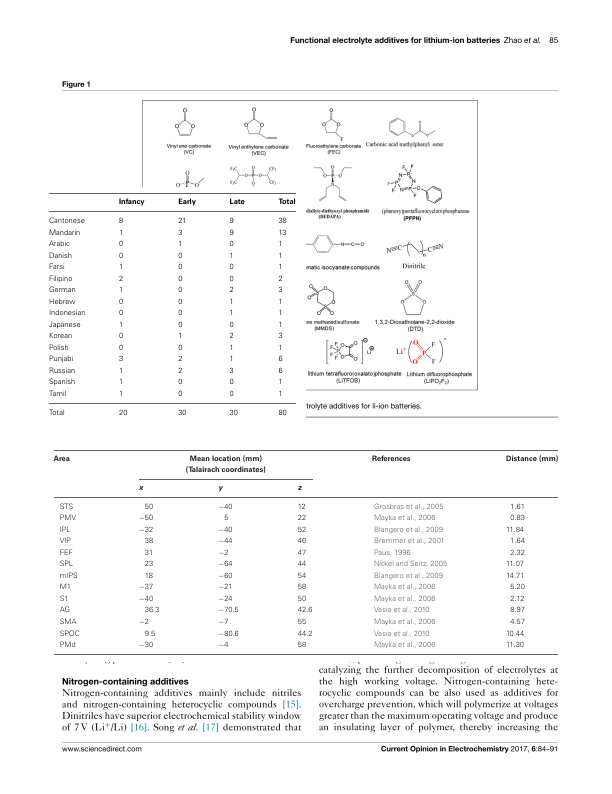borderless: (53, 449, 558, 654), (47, 192, 297, 418)
cell: (185, 455, 267, 475), (373, 560, 448, 569), (373, 538, 445, 547), (373, 503, 444, 512), (373, 526, 444, 535), (373, 572, 444, 581), (373, 595, 436, 604), (373, 618, 436, 627), (373, 641, 436, 650), (373, 607, 430, 616), (373, 630, 430, 639), (373, 515, 436, 523), (373, 584, 436, 592), (505, 455, 559, 463), (373, 549, 412, 558), (48, 309, 86, 318), (48, 217, 85, 226), (371, 455, 412, 463), (48, 229, 81, 238), (48, 321, 81, 330), (117, 198, 145, 207), (48, 286, 76, 295), (48, 298, 76, 307), (48, 367, 76, 376), (48, 378, 76, 387), (48, 355, 74, 364), (48, 275, 73, 284), (48, 332, 73, 341), (48, 252, 72, 261), (217, 607, 240, 616), (217, 630, 240, 639), (48, 240, 70, 249), (59, 630, 81, 639), (48, 344, 69, 353), (505, 526, 525, 535), (505, 560, 525, 569), (59, 572, 79, 581), (505, 572, 525, 581), (505, 630, 525, 639), (505, 641, 525, 650), (177, 198, 196, 207), (277, 198, 296, 207), (48, 390, 67, 399), (59, 618, 77, 627), (59, 641, 77, 650), (228, 198, 245, 207), (48, 263, 65, 272), (48, 409, 65, 418), (217, 503, 234, 512), (509, 503, 526, 512), (217, 526, 234, 535), (217, 538, 234, 547), (509, 538, 526, 547), (509, 549, 526, 558), (217, 560, 234, 569), (217, 572, 234, 581), (217, 584, 234, 593), (217, 595, 234, 604), (509, 607, 526, 616), (509, 618, 526, 627), (52, 455, 71, 463), (59, 515, 77, 523), (138, 526, 154, 535), (138, 584, 154, 593), (138, 595, 154, 604), (509, 595, 525, 604), (144, 607, 160, 616), (297, 607, 313, 616), (297, 630, 313, 639), (138, 641, 154, 650), (509, 515, 526, 523), (509, 584, 526, 592), (59, 503, 74, 512), (59, 549, 74, 558), (59, 560, 74, 569), (138, 515, 154, 523), (59, 526, 72, 535), (59, 538, 72, 547), (59, 584, 72, 593), (217, 549, 229, 558), (59, 607, 71, 616), (138, 618, 150, 627), (217, 618, 229, 627), (144, 630, 156, 639), (217, 641, 229, 650), (117, 409, 128, 418), (177, 217, 187, 226), (277, 217, 287, 226), (277, 229, 287, 238), (177, 409, 187, 418), (228, 409, 238, 418), (277, 409, 287, 418), (144, 503, 154, 512), (297, 503, 307, 512), (297, 526, 307, 535), (144, 538, 154, 547), (297, 538, 307, 547), (144, 549, 154, 558), (297, 549, 307, 558), (144, 560, 154, 569), (297, 560, 307, 569), (144, 572, 154, 581), (297, 572, 307, 581), (297, 584, 307, 593), (59, 595, 69, 604), (297, 595, 307, 604), (297, 618, 307, 627), (297, 641, 307, 650), (297, 515, 307, 523), (117, 217, 124, 226), (117, 229, 124, 238), (117, 240, 124, 249), (117, 252, 124, 261), (117, 263, 124, 272), (117, 275, 124, 284), (117, 286, 124, 295), (117, 298, 124, 307), (117, 309, 124, 318), (117, 321, 124, 330), (117, 332, 124, 341), (117, 344, 124, 353), (117, 355, 124, 364), (117, 367, 124, 376), (117, 378, 124, 387), (117, 390, 124, 399), (228, 217, 234, 226), (177, 229, 183, 238), (228, 229, 234, 238), (177, 240, 183, 249), (228, 240, 234, 249), (277, 240, 283, 249), (177, 252, 183, 261), (228, 252, 234, 261), (277, 252, 283, 261), (177, 263, 183, 272), (228, 263, 234, 272), (277, 263, 283, 272), (177, 275, 183, 284), (228, 275, 234, 284), (277, 275, 283, 284), (177, 286, 183, 295), (228, 286, 234, 295), (277, 286, 283, 295), (177, 298, 183, 307), (228, 298, 234, 307), (277, 298, 283, 307), (177, 309, 183, 318), (228, 309, 234, 318), (277, 309, 283, 318), (177, 321, 183, 330), (228, 321, 234, 330), (277, 321, 283, 330), (177, 332, 183, 341), (228, 332, 234, 341), (277, 332, 283, 341), (177, 344, 183, 353), (228, 344, 234, 353), (277, 344, 283, 353), (177, 355, 183, 364), (228, 355, 234, 364), (277, 355, 283, 364), (177, 367, 183, 376), (228, 367, 234, 376), (277, 367, 283, 376), (177, 378, 183, 387), (228, 378, 234, 387), (277, 378, 283, 387), (177, 390, 183, 399), (228, 390, 234, 399), (277, 390, 283, 399), (223, 515, 229, 523), (138, 486, 144, 493), (217, 486, 223, 493), (297, 486, 302, 493)
